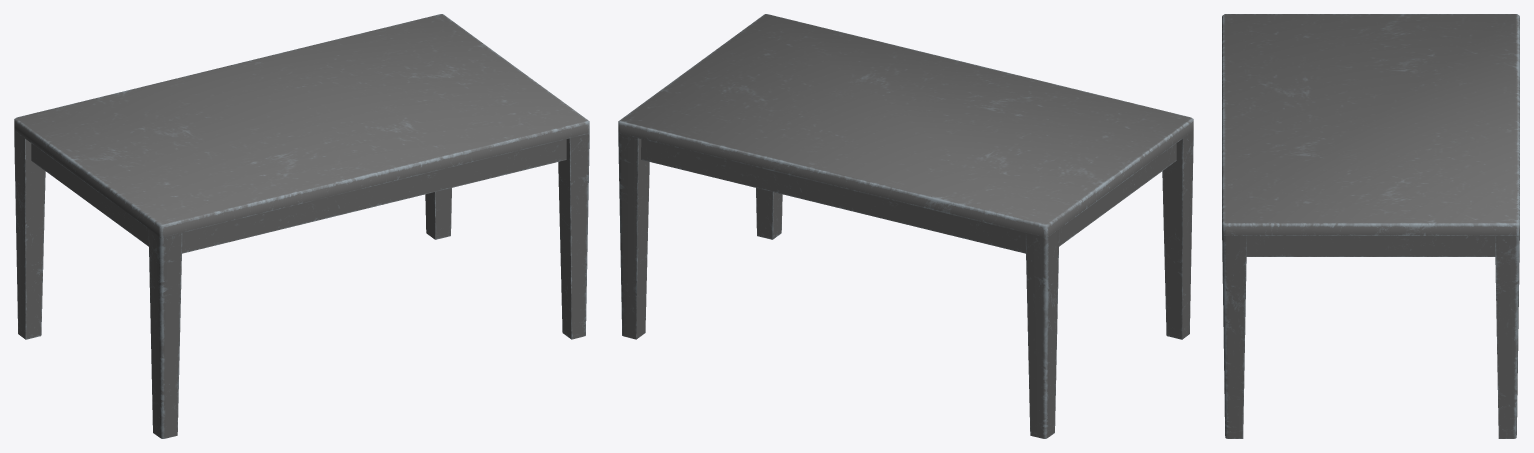
File: TableSteelC.fbx
3 views of the same model, side by side, from view 1: azimuth 30°, elevation 25°; view 2: azimuth 150°, elevation 25°; view 3: azimuth 270°, elevation 25° (orthographic).
Visible parts, largest first — view 1: TableSteelC; view 2: TableSteelC; view 3: TableSteelC.
Boxes of the visible parts, x1,y1,x2,y2 form: TableSteelC: [14, 14, 589, 438]; TableSteelC: [618, 14, 1193, 438]; TableSteelC: [1222, 14, 1519, 438].
Size of the model in its own units: 168 by 80 by 100.
